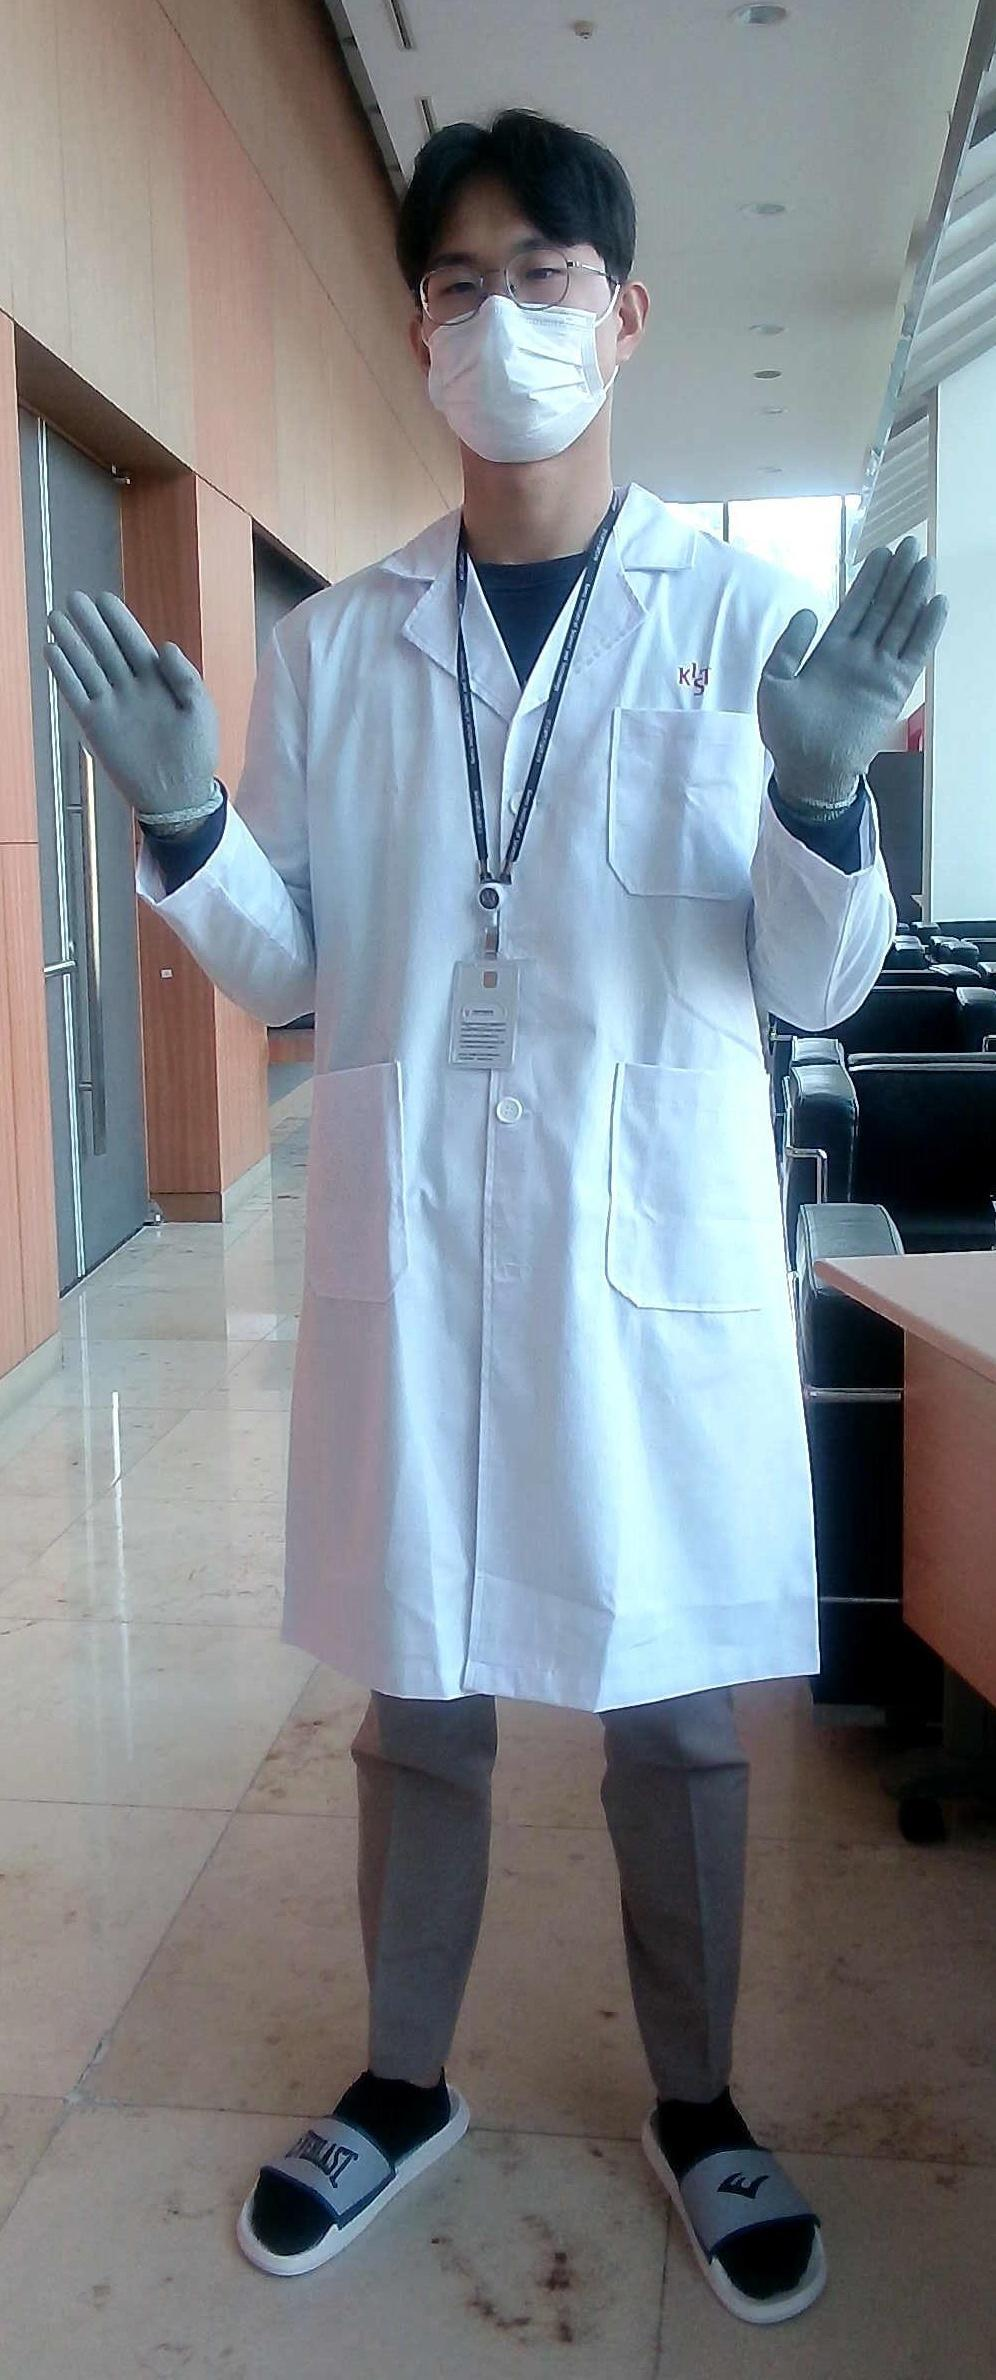lab_coat: (295, 531, 752, 1718)
